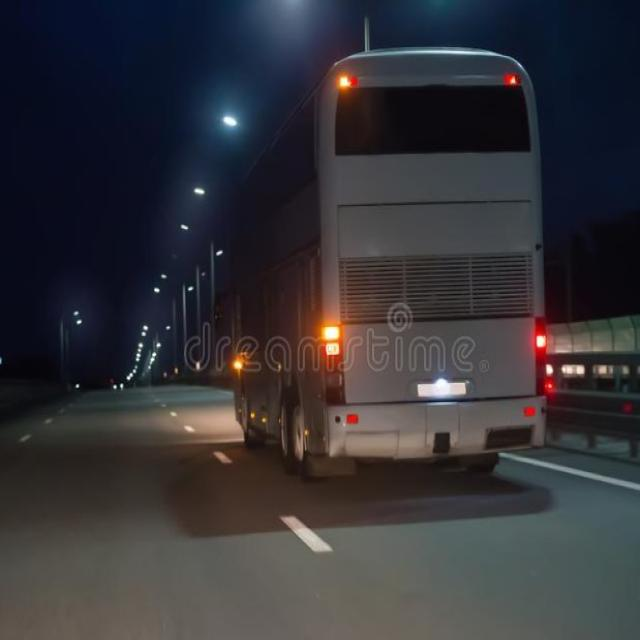bus: (223, 44, 550, 478)
